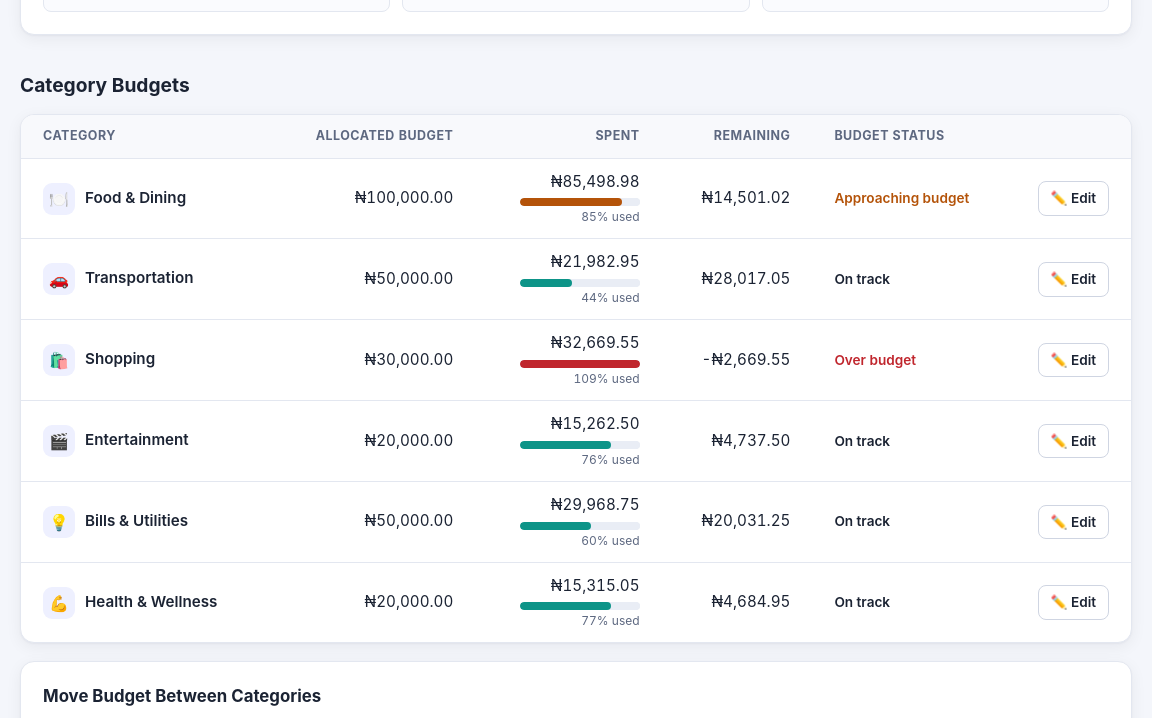
it: App › category budgets › rejects a negative budget
(page scrolled)
Click the button with aria-label "Edit budget for Shopping".
click(1073, 360)  # box [1038,343,1109,377]
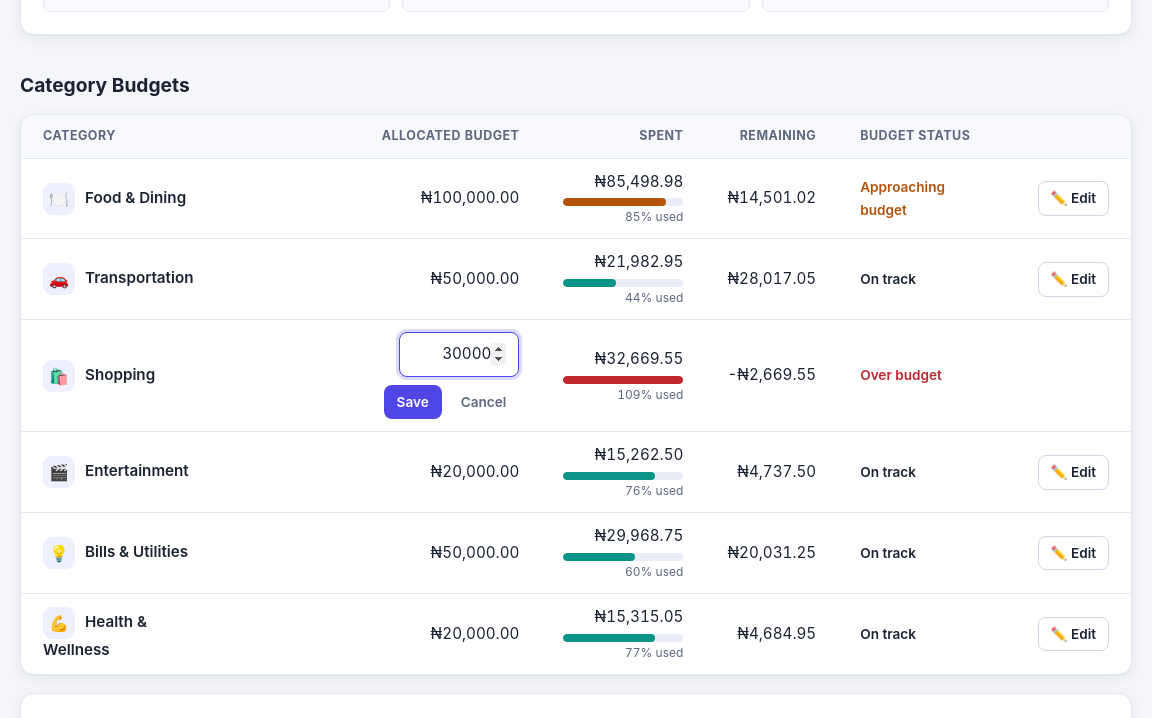
Replace the text in the number field named "Allocated budget for Shopping" with "-5" at (459, 355), box [399,332,519,377]
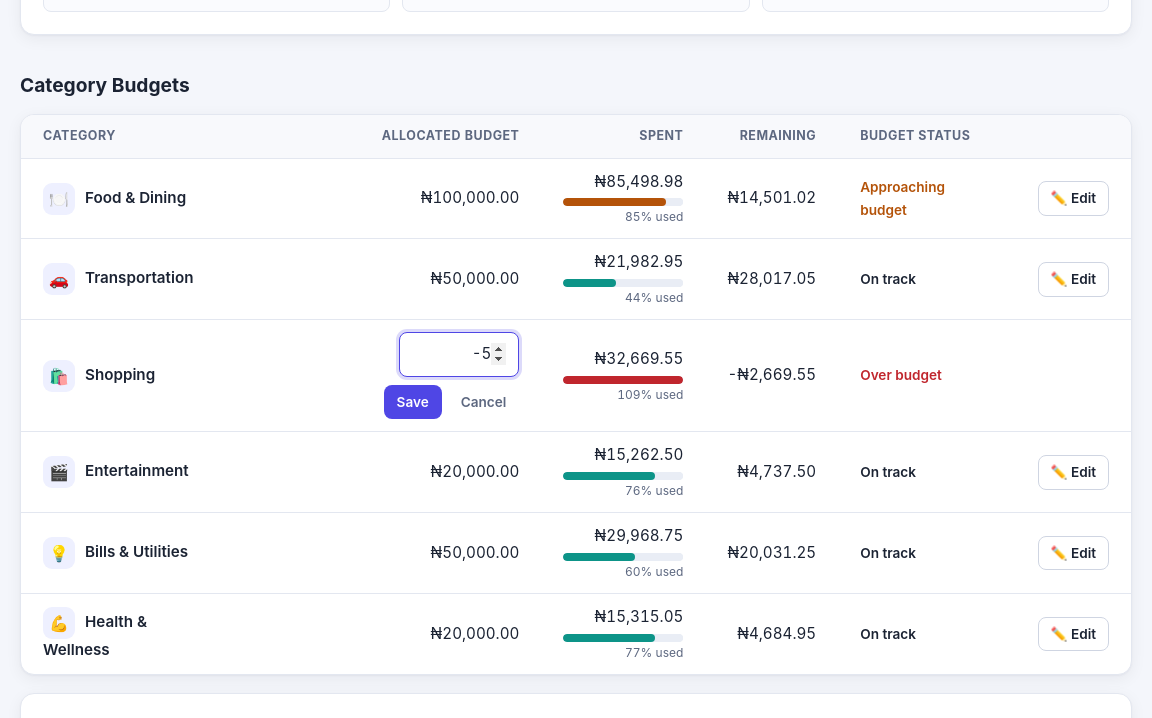
Click the button "Save".
click(413, 402)  # box [384,385,442,419]
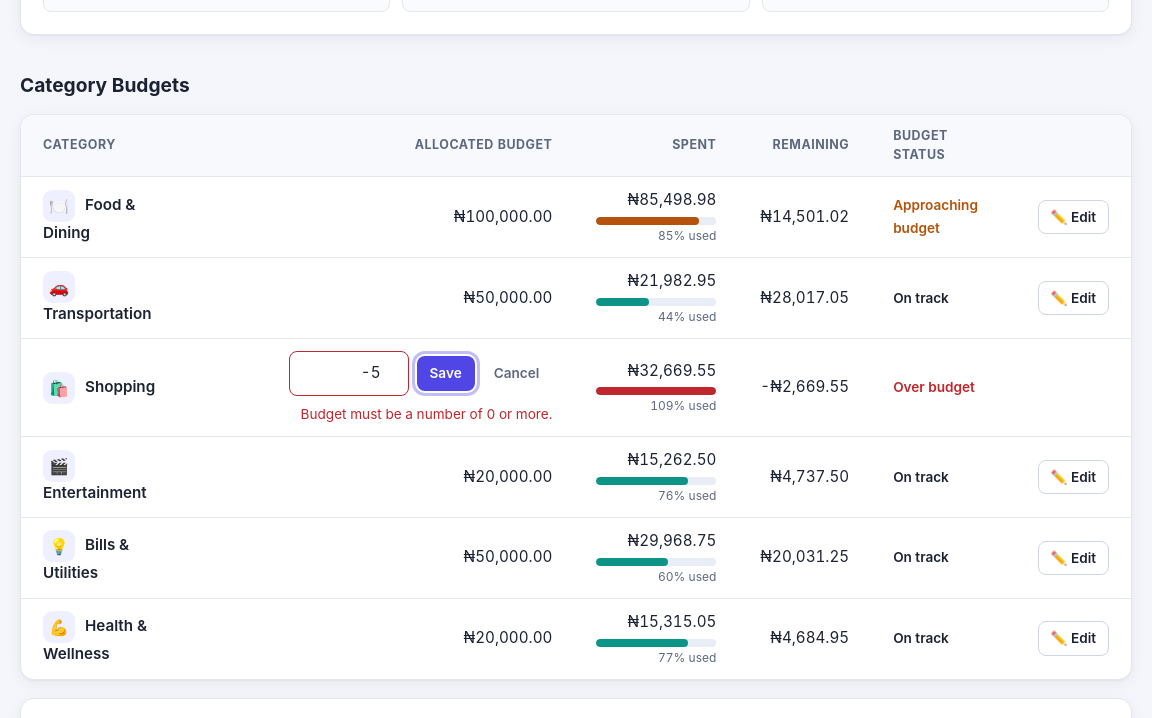
Expected: the text "Budget must be a number of 0 or more." is shown, [301,406,552,422]
